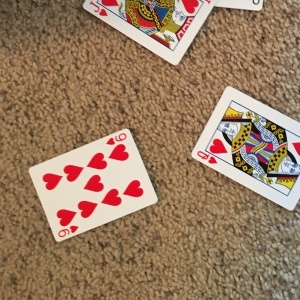card: (29, 128, 159, 236)
